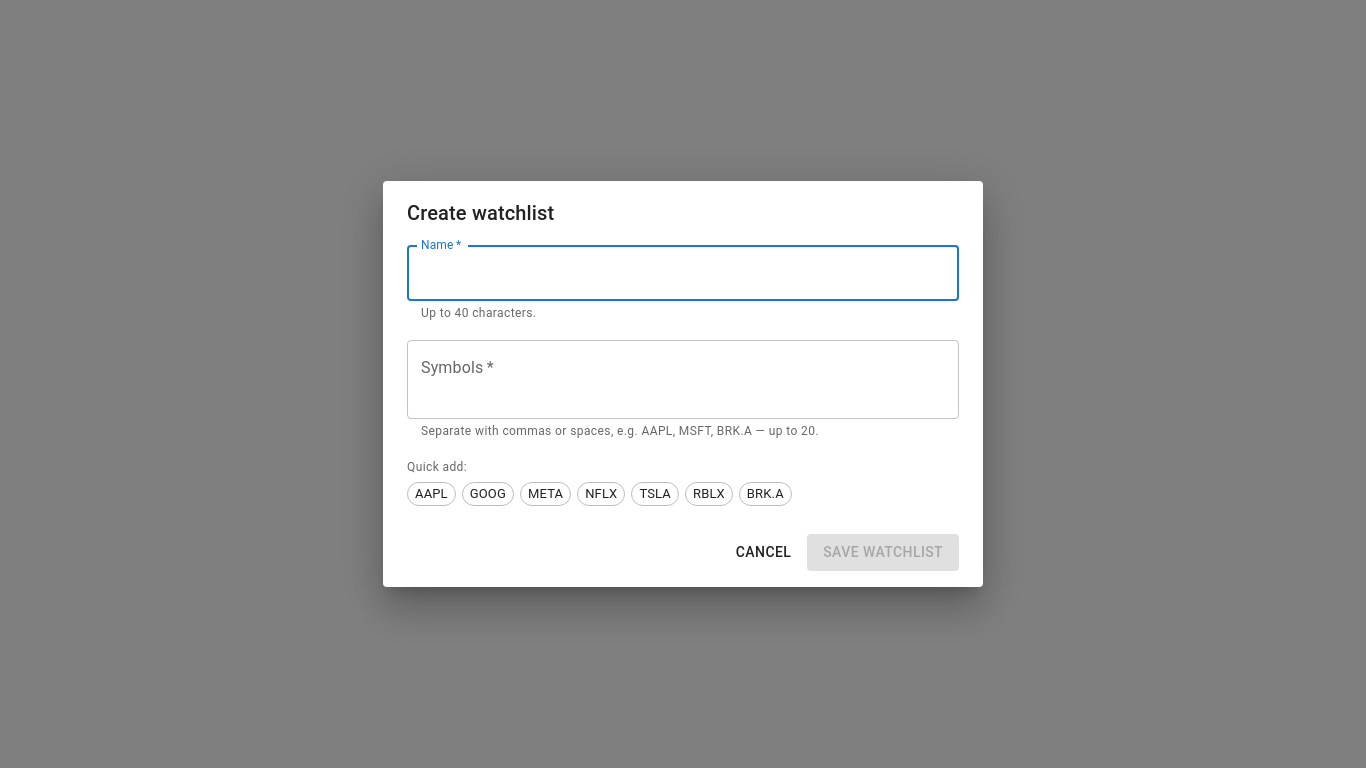
it: CreateWatchlistDialog › toggles quick-add suggestions in and out of the text
This screenshot has width=1366, height=768.
Click the button "TSLA" at (655, 494), box [631,482,679,506]
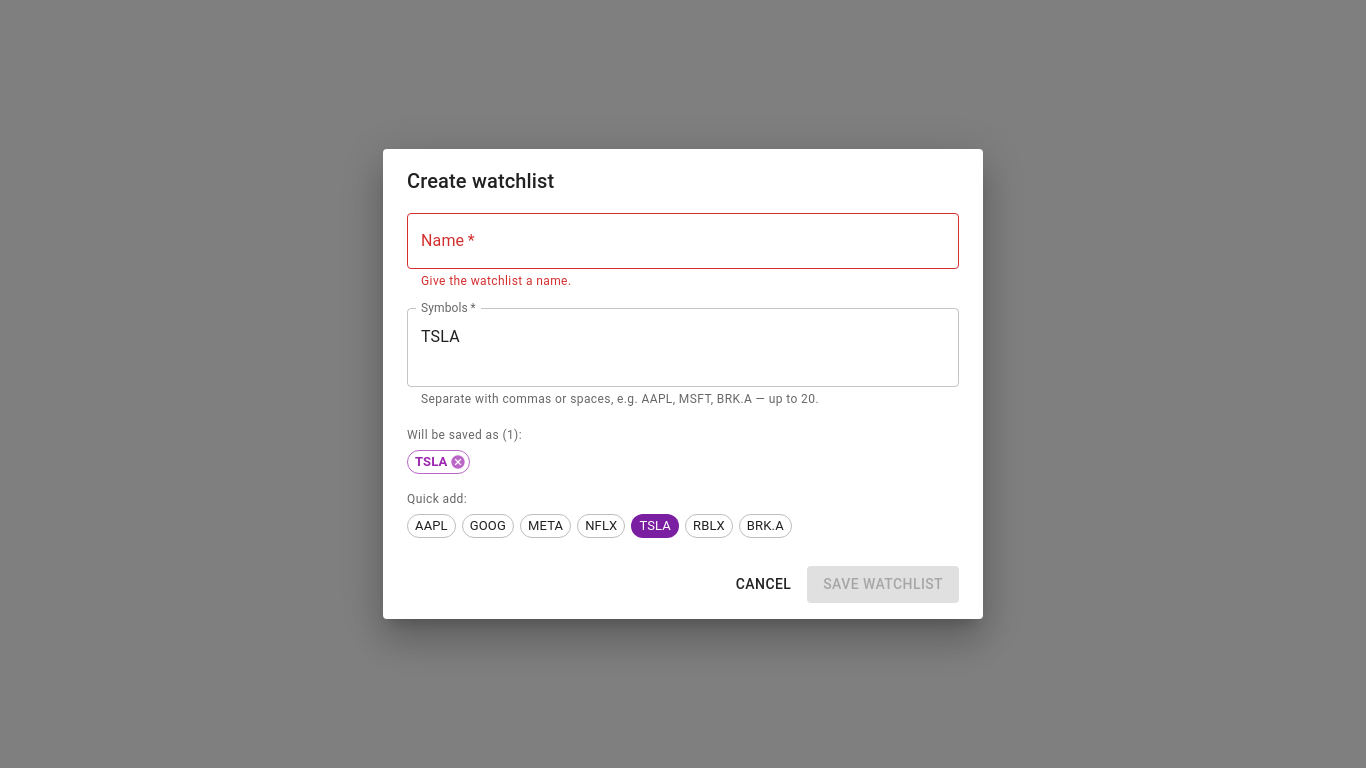
Click the button "NFLX" at (601, 526), box [577,514,625,538]
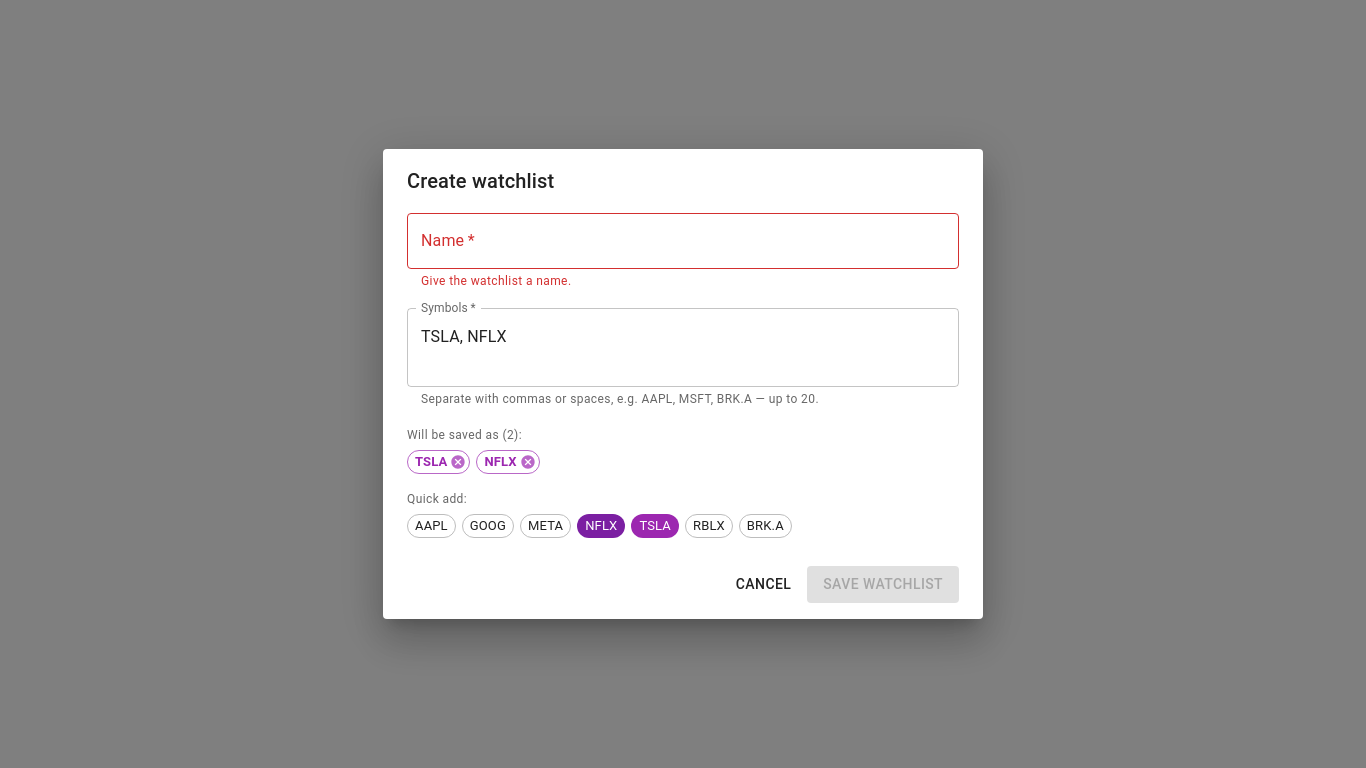
Expected: the text box with test id "watchlist-symbols-input" holds "TSLA, NFLX", [421,325,945,371]
Click the button "TSLA" below "Quick add:" at (655, 526), box [631,514,679,538]
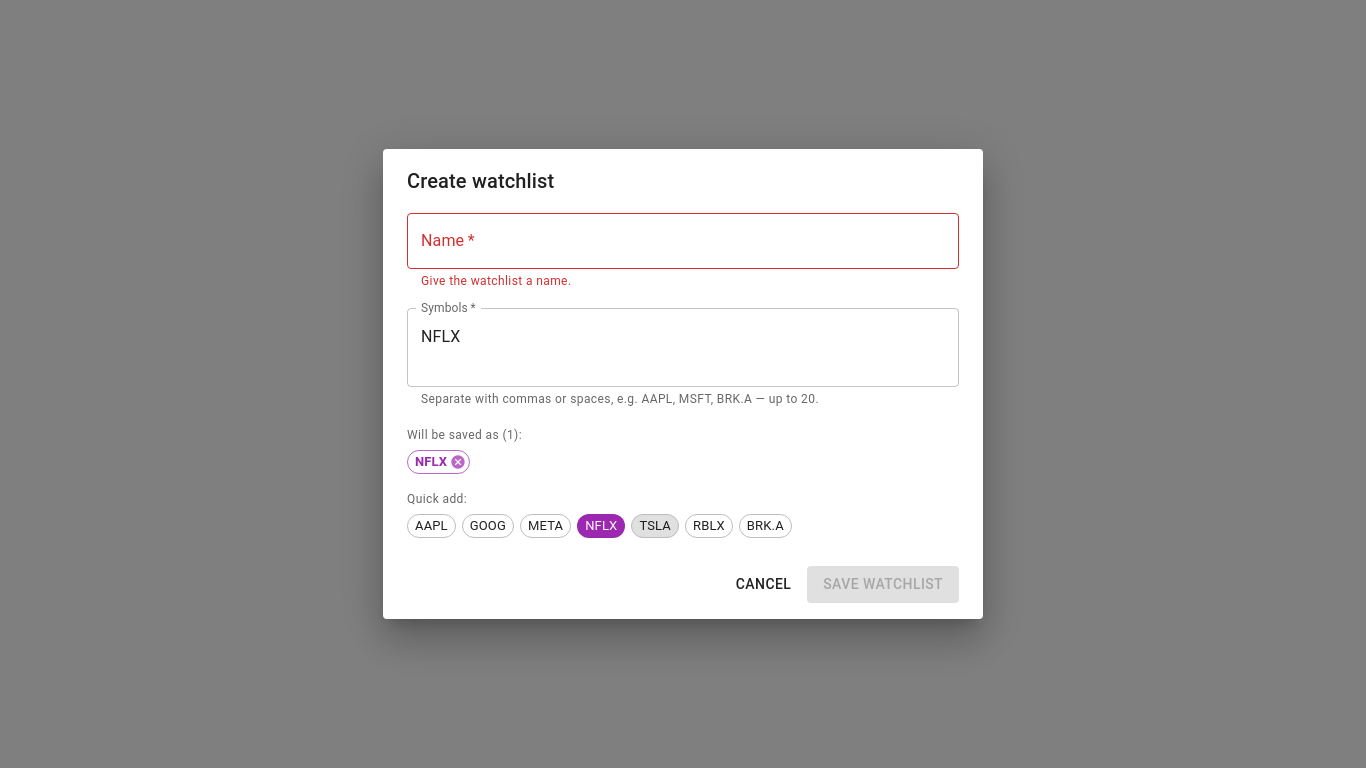
Expected: the text box with test id "watchlist-symbols-input" holds "NFLX", [421,325,945,371]
